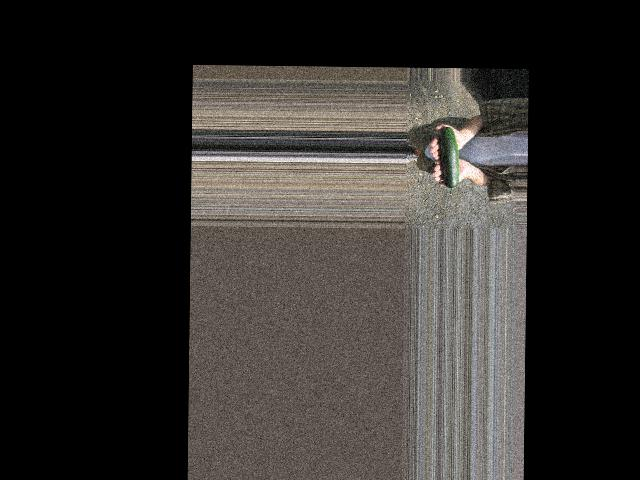cucumber: (438, 127, 459, 195)
